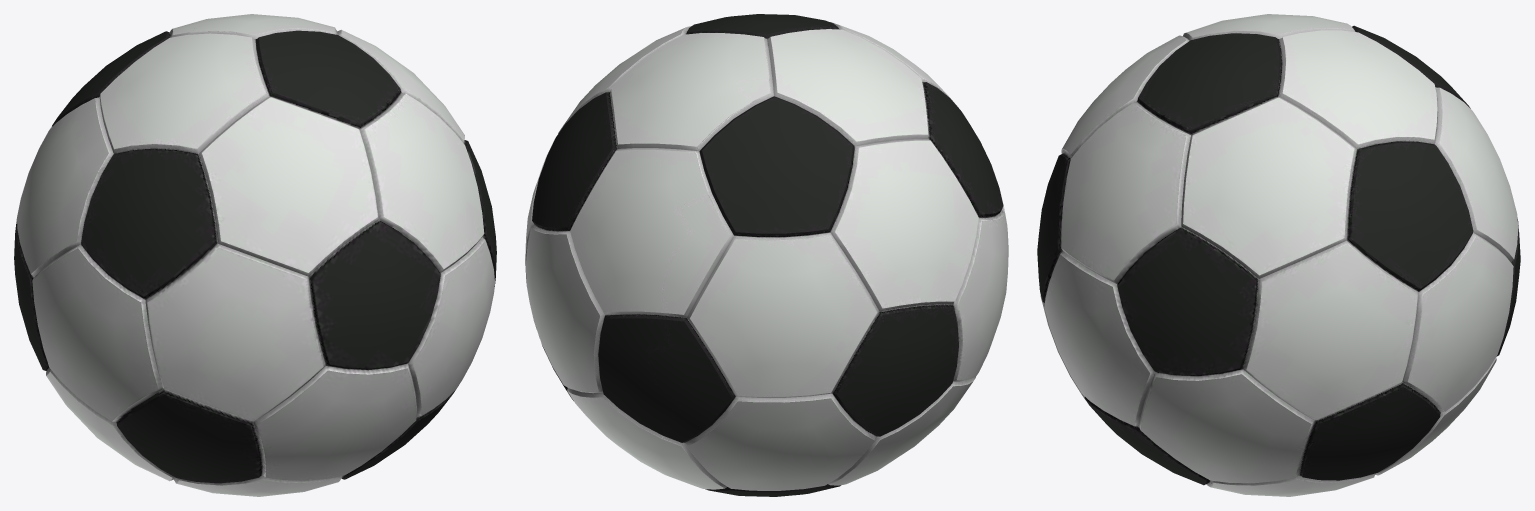
The model's file is Football.fbx.
3 views of the same model, side by side, from view 1: azimuth 30°, elevation 25°; view 2: azimuth 150°, elevation 25°; view 3: azimuth 270°, elevation 25° (orthographic).
Parts seen in each view (by area): view 1: node_id35; view 2: node_id35; view 3: node_id35.
Part boxes in pixels (bbox=[...]): node_id35: bbox=[14, 14, 496, 496]; node_id35: bbox=[525, 14, 1008, 496]; node_id35: bbox=[1037, 14, 1520, 496].
Bounding box in the file's own units: 0.4856 × 0.4857 × 0.4856.
1 material, 1 textured.
